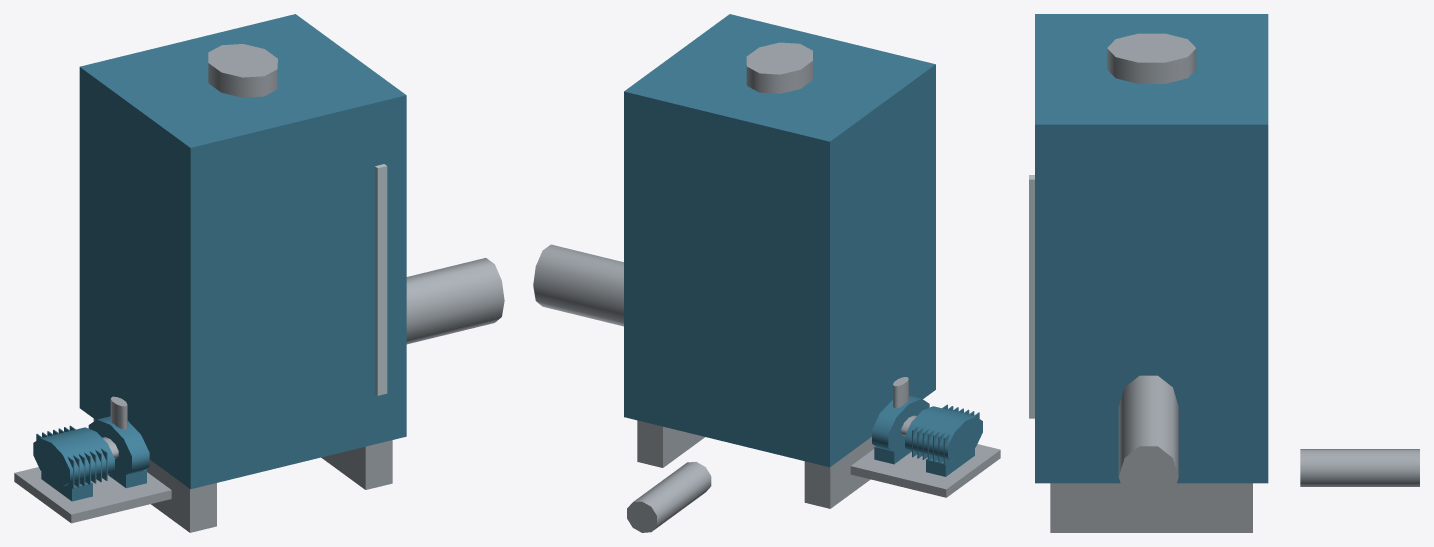
3 renders of one model, left to right at view 1: azimuth 30°, elevation 25°; view 2: azimuth 150°, elevation 25°; view 3: azimuth 270°, elevation 25°, orthographic. The views are drawn at different scales.
Visible parts, largest first — view 1: g2, g0.003, g0.002, g3.001, g3, g5.001, g0, g1, g5, g1.001; view 2: g2, g0.003, g0.002, g0.001, g3.001, g3, g0, g1, g5; view 3: g2, g1, g0.003, g0.001, g3.001, g5.001.
Part boxes in pixels (box(x1,y1,x2,y2)): g2: box(79, 14, 406, 489); g0.003: box(406, 258, 504, 344); g0.002: box(14, 467, 171, 523); g3.001: box(208, 44, 277, 97); g3: box(33, 427, 114, 486); g5.001: box(375, 164, 387, 395); g0: box(93, 419, 216, 532); g1: box(321, 440, 392, 489); g5: box(88, 416, 149, 476); g1.001: box(41, 471, 92, 501); g2: box(624, 14, 935, 467); g0.003: box(533, 244, 623, 326); g0.002: box(850, 444, 1000, 497); g0.001: box(627, 462, 711, 532); g3.001: box(746, 42, 812, 93); g3: box(905, 406, 982, 462); g0: box(804, 437, 874, 508); g1: box(637, 420, 704, 467); g5: box(872, 395, 929, 452); g2: box(1035, 14, 1268, 483); g1: box(1050, 483, 1252, 532); g0.003: box(1118, 375, 1178, 507); g0.001: box(1300, 449, 1419, 486); g3.001: box(1107, 33, 1196, 83); g5.001: box(1029, 175, 1034, 418).
Bounding box in the file's own units: 2.5 × 2.2 × 1.8.
